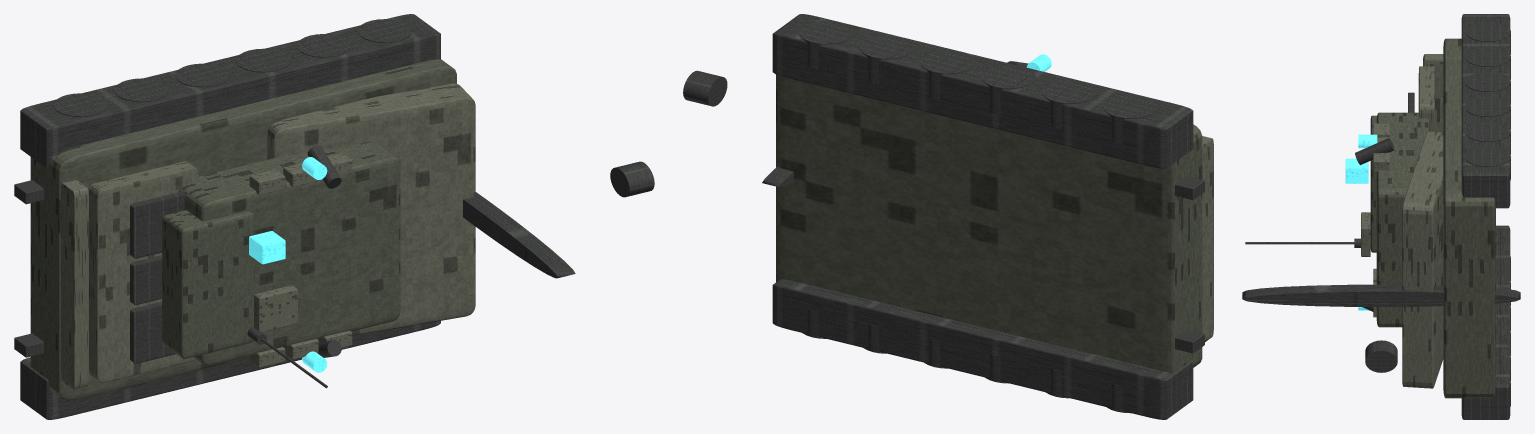
The model's file is v-u13-vanguard-main-battle-tank-lod0.glb.
The picture shows the model from 3 angles, left to right: view 1: azimuth 30°, elevation 25°; view 2: azimuth 150°, elevation 25°; view 3: azimuth 270°, elevation 25°; orthographic projection. The views are drawn at different scales.
Visible parts, largest first — view 1: turret_yaw, glacis, hull_lower, track_left, turret_bustle, engine_deck, rear_armor, track_right, gun_pitch, engine_grille_03, engine_grille_01, loader_hatch (+11 smaller); view 2: hull_lower, track_left, track_right, rear_armor, wheel_l_6, wheel_l_3, wheel_l_4, wheel_l_2, wheel_l_1, wheel_l_5, muzzle, tow_hook_right (+1 smaller); view 3: hull_lower, glacis, turret_yaw, track_left, gun_pitch, track_right, engine_deck, muzzle, rear_armor, wheel_l_6, wheel_l_1, wheel_l_2 (+9 smaller).
Part boxes in pixels (left/top/right/bottom): turret_yaw: left=178, top=142, right=400, bottom=365; glacis: left=267, top=83, right=475, bottom=335; hull_lower: left=30, top=59, right=456, bottom=400; track_left: left=20, top=14, right=440, bottom=168; turret_bustle: left=162, top=210, right=254, bottom=358; engine_deck: left=88, top=161, right=198, bottom=383; rear_armor: left=61, top=180, right=88, bottom=389; track_right: left=20, top=321, right=440, bottom=419; gun_pitch: left=463, top=192, right=575, bottom=278; engine_grille_03: left=130, top=191, right=185, bottom=258; engine_grille_01: left=130, top=301, right=175, bottom=363; loader_hatch: left=254, top=285, right=298, bottom=332; hull_lower: left=776, top=74, right=1202, bottom=373; track_left: left=772, top=14, right=1193, bottom=168; track_right: left=772, top=279, right=1193, bottom=419; rear_armor: left=1202, top=136, right=1213, bottom=341; wheel_l_6: left=799, top=21, right=853, bottom=69; wheel_l_3: left=981, top=65, right=1035, bottom=114; wheel_l_4: left=920, top=50, right=975, bottom=99; wheel_l_2: left=1042, top=80, right=1096, bottom=128; wheel_l_1: left=1103, top=95, right=1157, bottom=143; wheel_l_5: left=859, top=35, right=914, bottom=84; muzzle: left=683, top=70, right=727, bottom=106; tow_hook_right: left=1175, top=329, right=1204, bottom=353; hull_lower: left=1443, top=38, right=1495, bottom=398; glacis: left=1402, top=131, right=1443, bottom=388; turret_yaw: left=1376, top=112, right=1429, bottom=327; track_left: left=1461, top=14, right=1510, bottom=208; gun_pitch: left=1242, top=284, right=1520, bottom=306; track_right: left=1461, top=225, right=1510, bottom=419; engine_deck: left=1418, top=66, right=1434, bottom=131; muzzle: left=1365, top=340, right=1397, bottom=372; rear_armor: left=1423, top=54, right=1443, bottom=132; wheel_l_6: left=1465, top=147, right=1510, bottom=180; wheel_l_1: left=1465, top=22, right=1510, bottom=54; wheel_l_2: left=1465, top=47, right=1510, bottom=79.
Size of what is drawn, in the model's own units: 8.11 by 4.04 by 4.1.
Materials: 5 (5 with a texture image).
